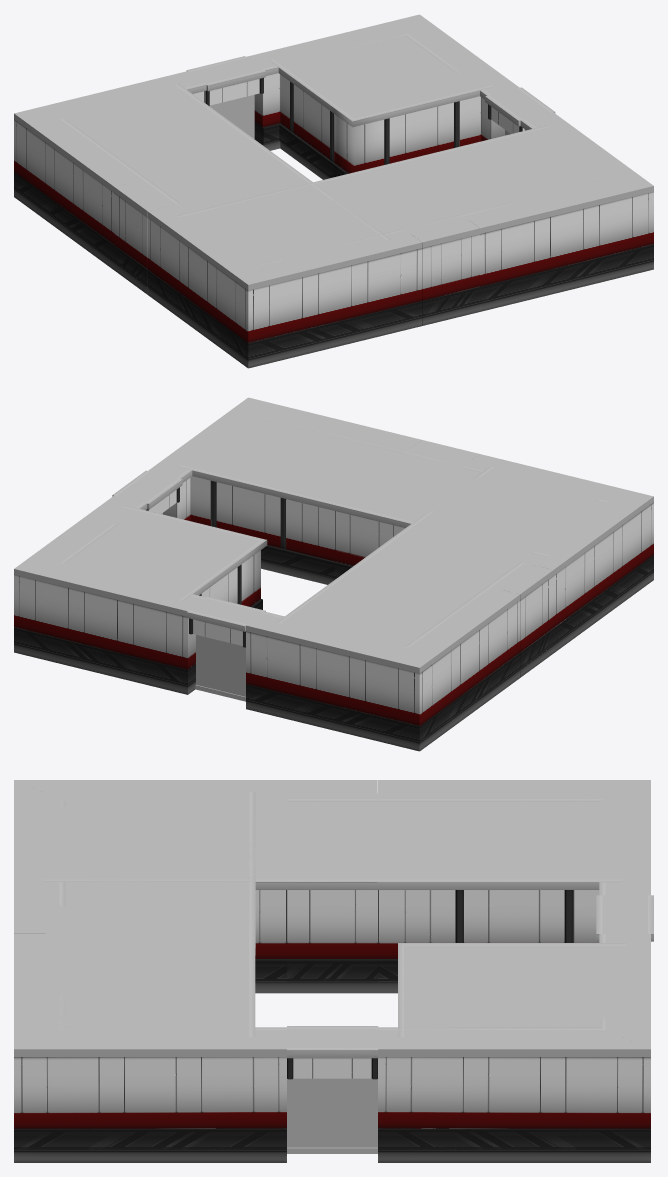
File: Room15.FBX
The picture shows the model from 3 angles, top to bottom: view 1: azimuth 30°, elevation 25°; view 2: azimuth 150°, elevation 25°; view 3: azimuth 270°, elevation 25°; orthographic projection. The views are drawn at different scales.
Visible parts, largest first — view 1: Wall0 (×8), Box501, Box503, Wall2, Wall1 (×2), Box058, Door1, Box061; view 2: Wall0 (×8), Box501, Box503, Wall2, Wall1 (×2), Box058, Door1, Box061, Box060; view 3: Wall0 (×8), Box503, Box501, Wall2, Door (×2), Door1, Wall1 (×2), Box058.
Part boxes in pixels (x1,y1,x2,y2): Wall0 (×8): (14,14,653,368); Box501: (178,125,623,271); Box503: (45,83,390,340); Wall2: (269,26,494,179); Wall1 (×2): (114,179,479,325); Box058: (186,56,265,105); Door1: (485,87,555,133); Box061: (225,94,254,138); Wall0 (×8): (14,397,653,751); Box501: (178,410,623,627); Box503: (277,466,622,723); Wall2: (41,505,267,637); Wall1 (×2): (405,440,553,677); Box058: (186,596,265,647); Door1: (112,470,182,513); Box061: (195,635,224,696); Box060: (224,642,245,701); Wall0 (×8): (14,780,650,1162); Box503: (42,793,622,993); Box501: (45,792,255,1128); Wall2: (398,943,625,1128); Door (×2): (287,1078,377,1153); Door1: (287,1026,378,1079); Wall1 (×2): (14,780,377,933); Box058: (596,895,653,941).
Size of the model in its own units: 141 by 27.57 by 141.
